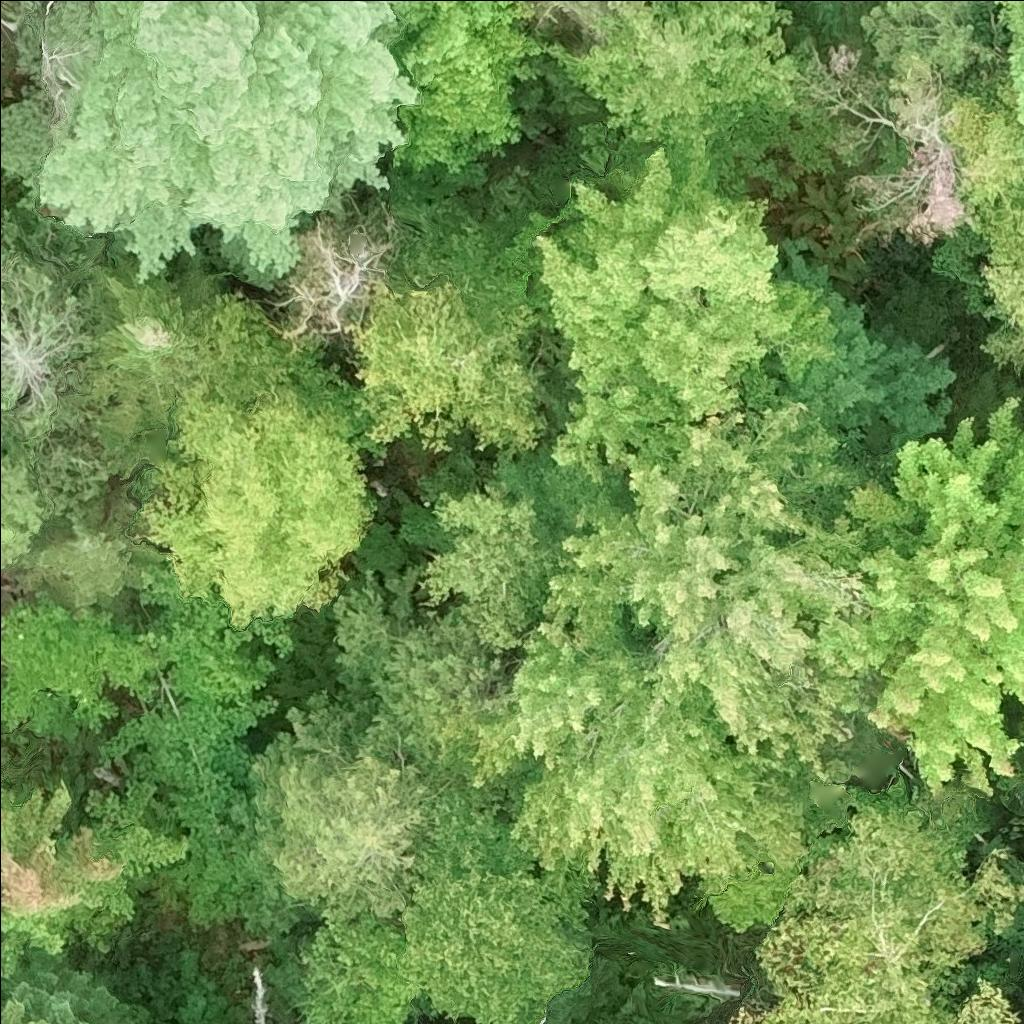crown: (468, 406, 878, 930), (45, 0, 419, 288), (536, 148, 840, 490), (149, 295, 373, 630), (843, 394, 1023, 797), (303, 787, 595, 1023), (753, 796, 1023, 1023), (104, 690, 304, 938), (246, 693, 437, 917), (543, 0, 804, 146), (344, 274, 548, 457), (0, 781, 190, 971), (335, 584, 511, 785), (391, 0, 546, 172), (421, 485, 564, 653), (0, 223, 102, 445), (0, 603, 173, 729), (142, 566, 296, 707), (948, 92, 1023, 370), (279, 209, 389, 338), (93, 280, 190, 378), (45, 531, 145, 615), (0, 974, 127, 1023), (0, 464, 39, 563), (995, 0, 1023, 131), (954, 978, 1010, 1023), (561, 0, 616, 30), (729, 1007, 749, 1023), (0, 401, 8, 414)
